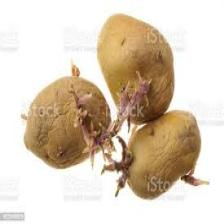Bud: (99, 134, 138, 201), (117, 64, 158, 114), (100, 89, 134, 148), (178, 160, 216, 188), (82, 118, 104, 166), (66, 82, 93, 108), (72, 104, 88, 130), (68, 56, 82, 78), (148, 123, 160, 139), (155, 48, 165, 66), (20, 113, 29, 125)
Sprouted potato: (100, 106, 215, 205), (18, 60, 121, 165), (94, 14, 182, 126)
